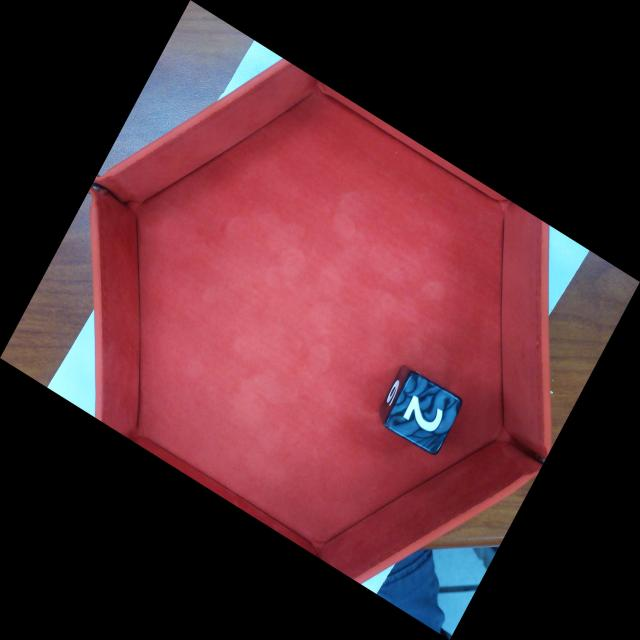dice: (391, 371, 465, 453), (389, 376, 460, 455)
